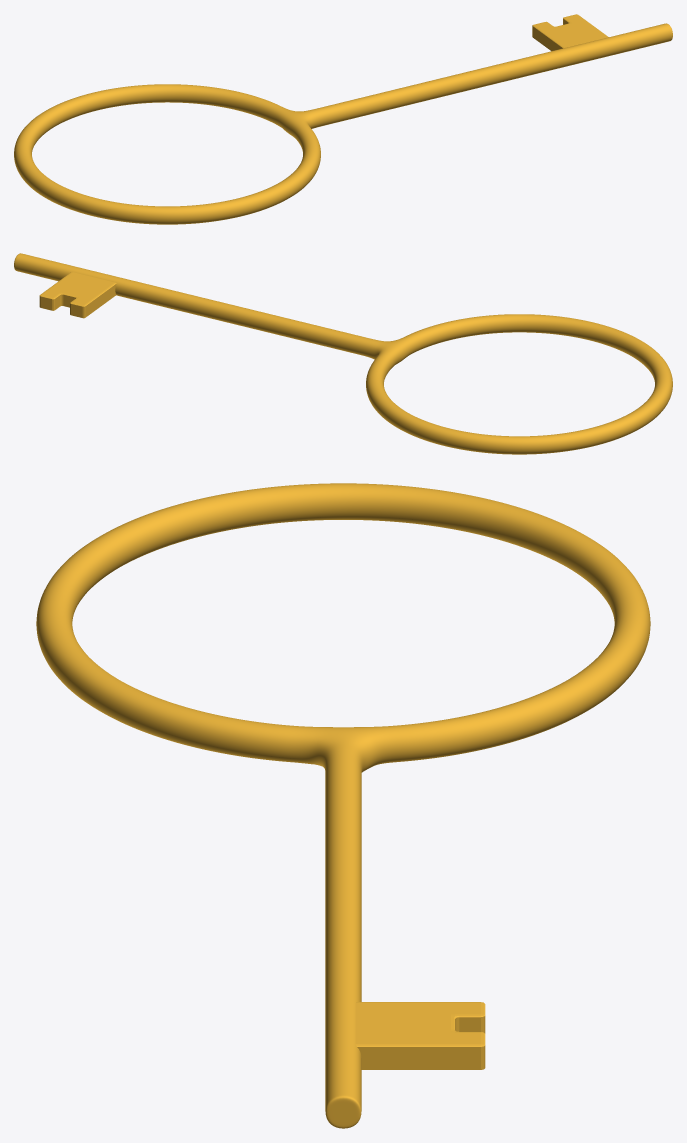
Rendered from key.fbx.
The picture shows the model from 3 angles, top to bottom: view 1: azimuth 30°, elevation 25°; view 2: azimuth 150°, elevation 25°; view 3: azimuth 270°, elevation 25°; orthographic projection. The views are drawn at different scales.
Parts seen in each view (by area): view 1: 円, 立方体; view 2: 円, 立方体; view 3: 円, 立方体.
Part boxes in pixels (<box>): 円: <box>14,23,672,224</box>; 立方体: <box>532,14,608,51</box>; 円: <box>14,253,672,454</box>; 立方体: <box>39,272,116,318</box>; 円: <box>36,483,650,1128</box>; 立方体: <box>355,1002,485,1069</box>.
Size of the model in its own units: 0.253 by 0.00659 by 0.1061.
